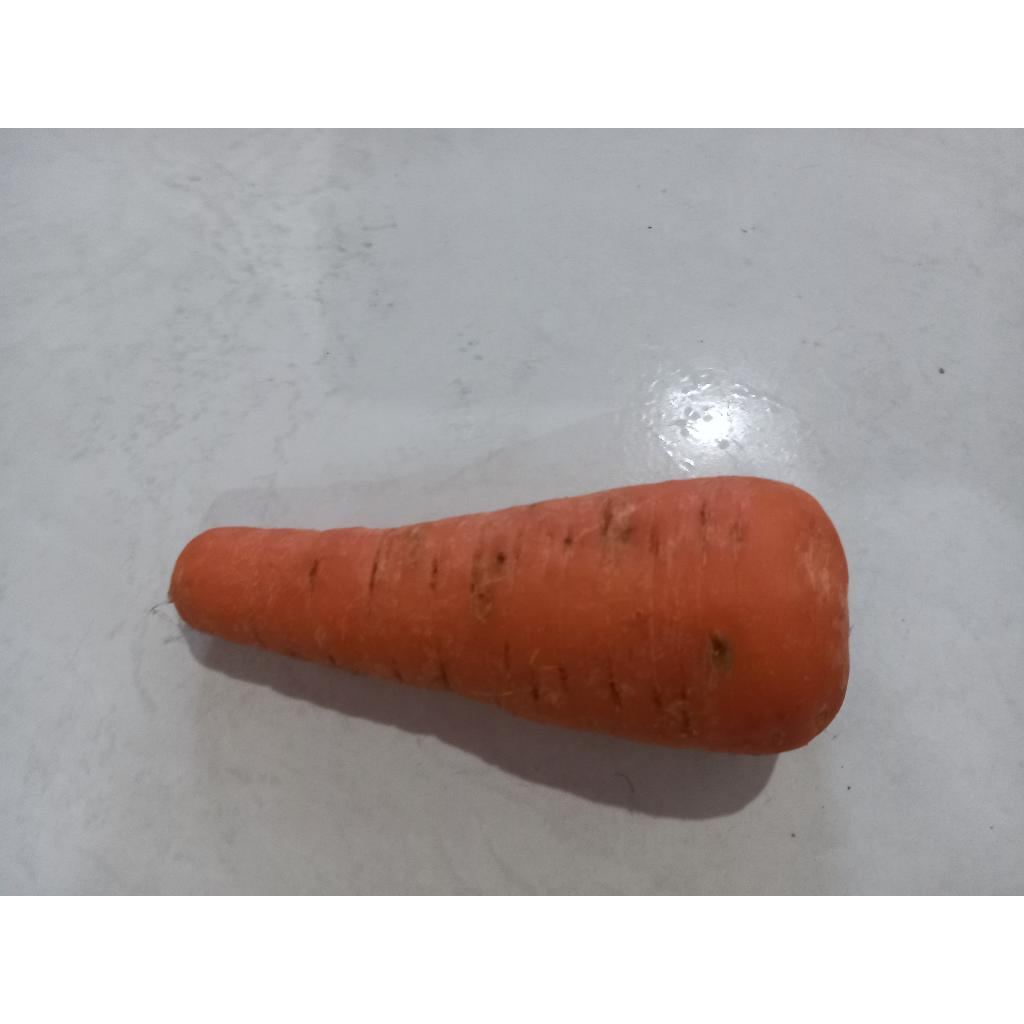carrot: (170, 476, 848, 754)
